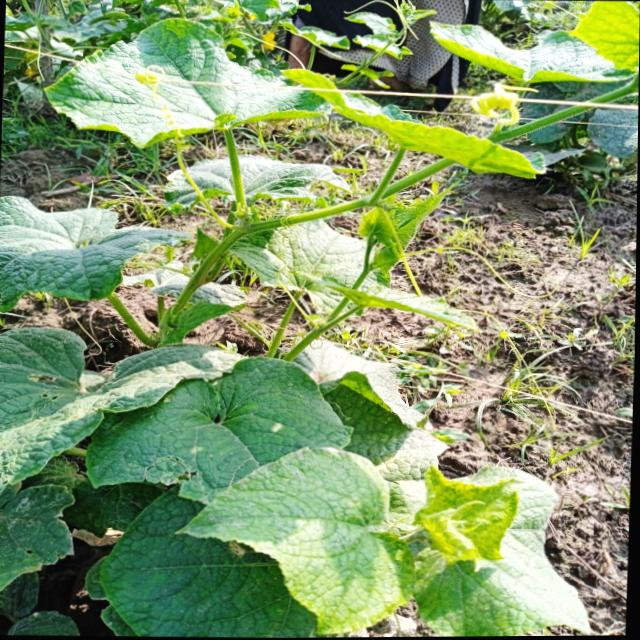Fresh-Leaf: (171, 451, 415, 635), (37, 14, 333, 151), (412, 460, 520, 563)
